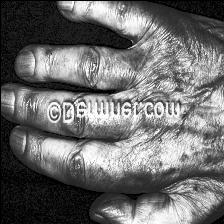Unclassified: (74, 146, 224, 177), (82, 51, 224, 77), (73, 117, 194, 131)
